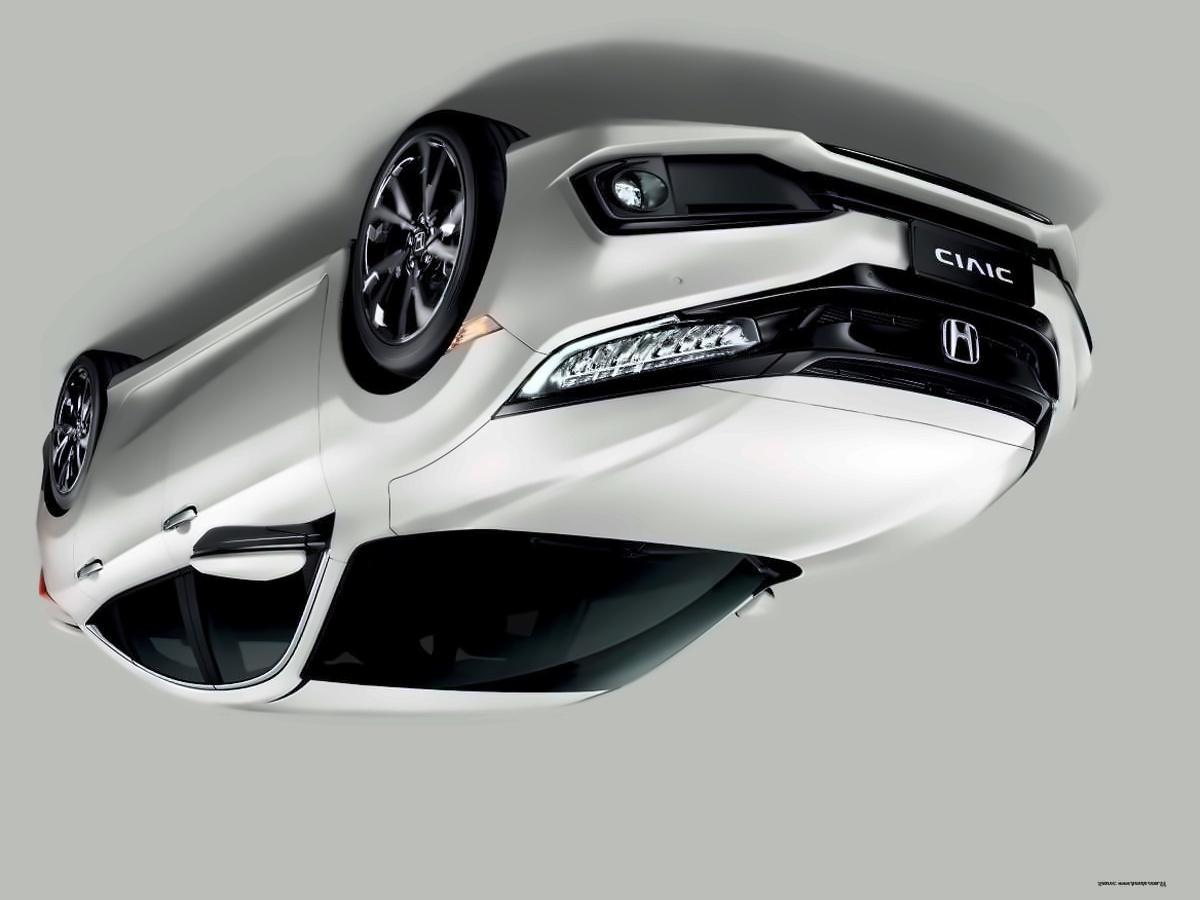Car hood: (385, 369, 1050, 573)
Fender - -F-L-: (305, 226, 544, 548)
Front bumper: (485, 112, 1108, 400)
Passenger-s door - -F-L-: (165, 282, 333, 708)
Passenger-s door - -R-L-: (74, 369, 210, 700)
Rear light - -L-: (535, 310, 770, 400)
Side bumper - -L-: (100, 240, 356, 407)
Side mirror - -L-: (181, 510, 328, 598)
